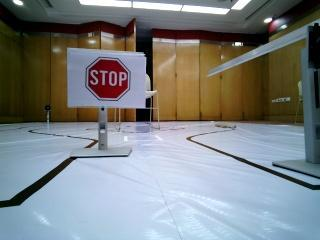stop: (68, 53, 142, 103)
